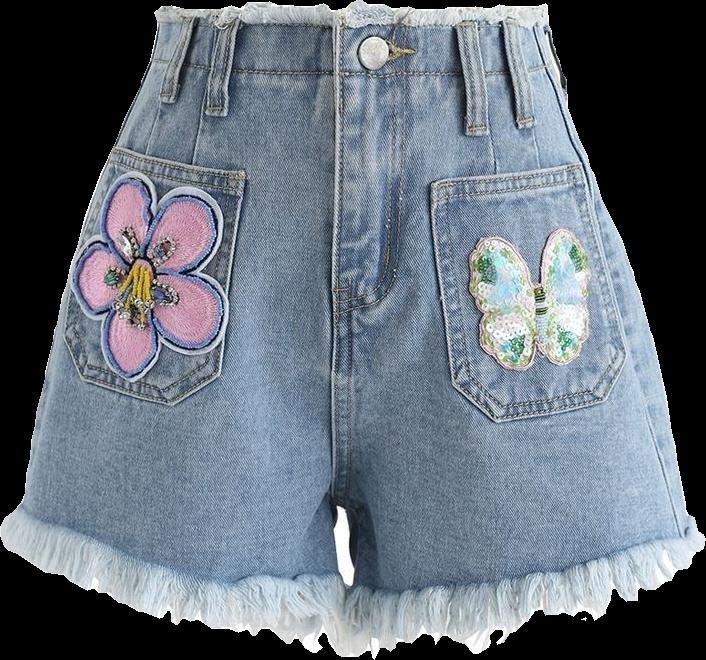Hemline: (345, 536, 705, 643), (0, 533, 340, 639)
Pantleg: (329, 0, 705, 645), (0, 2, 340, 634)
Waistline: (148, 57, 561, 78), (152, 6, 549, 21)
